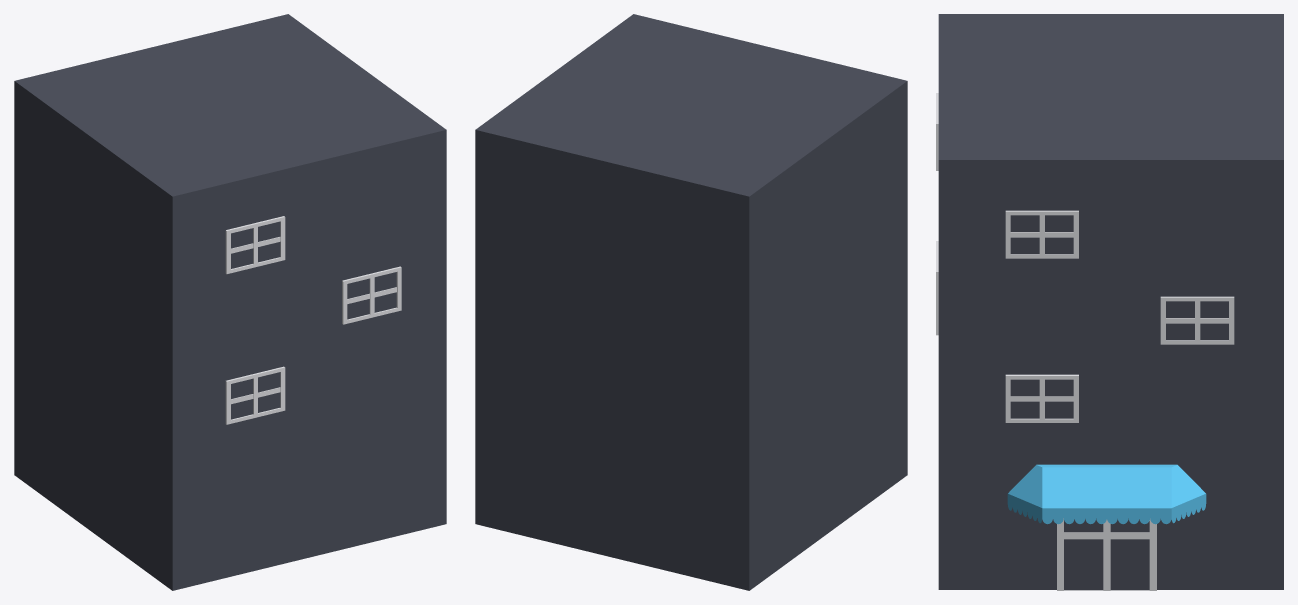
The model's file is building 2.fbx.
3 renders of one model, left to right at view 1: azimuth 30°, elevation 25°; view 2: azimuth 150°, elevation 25°; view 3: azimuth 270°, elevation 25°, orthographic. The views are drawn at different scales.
Visible parts, largest first — view 1: block_53, window_wide_93, window_wide_91, window_wide_92; view 2: block_53; view 3: block_53, awning_85, door_wide_84, window_wide_89, window_wide_88, window_wide_90, awning_corner_87, awning_corner_86.
Boxes of the visible parts, left/top/right/bottom form: block_53: left=14, top=14, right=446, bottom=590; window_wide_93: left=225, top=216, right=285, bottom=273; window_wide_91: left=225, top=366, right=285, bottom=424; window_wide_92: left=342, top=266, right=401, bottom=324; block_53: left=475, top=14, right=907, bottom=590; block_53: left=938, top=14, right=1283, bottom=589; awning_85: left=1042, top=464, right=1171, bottom=524; door_wide_84: left=1057, top=518, right=1156, bottom=590; window_wide_89: left=1160, top=296, right=1234, bottom=344; window_wide_88: left=1005, top=210, right=1078, bottom=258; window_wide_90: left=1005, top=374, right=1078, bottom=422; awning_corner_87: left=1007, top=464, right=1042, bottom=523; awning_corner_86: left=1171, top=464, right=1206, bottom=523.
Bounding box in the file's own units: 44 × 55 × 40.3.
